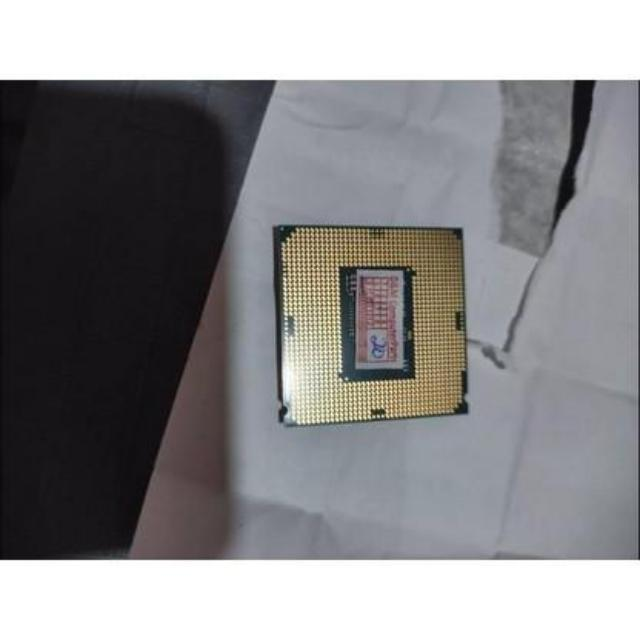CPU: (272, 224, 468, 422)
